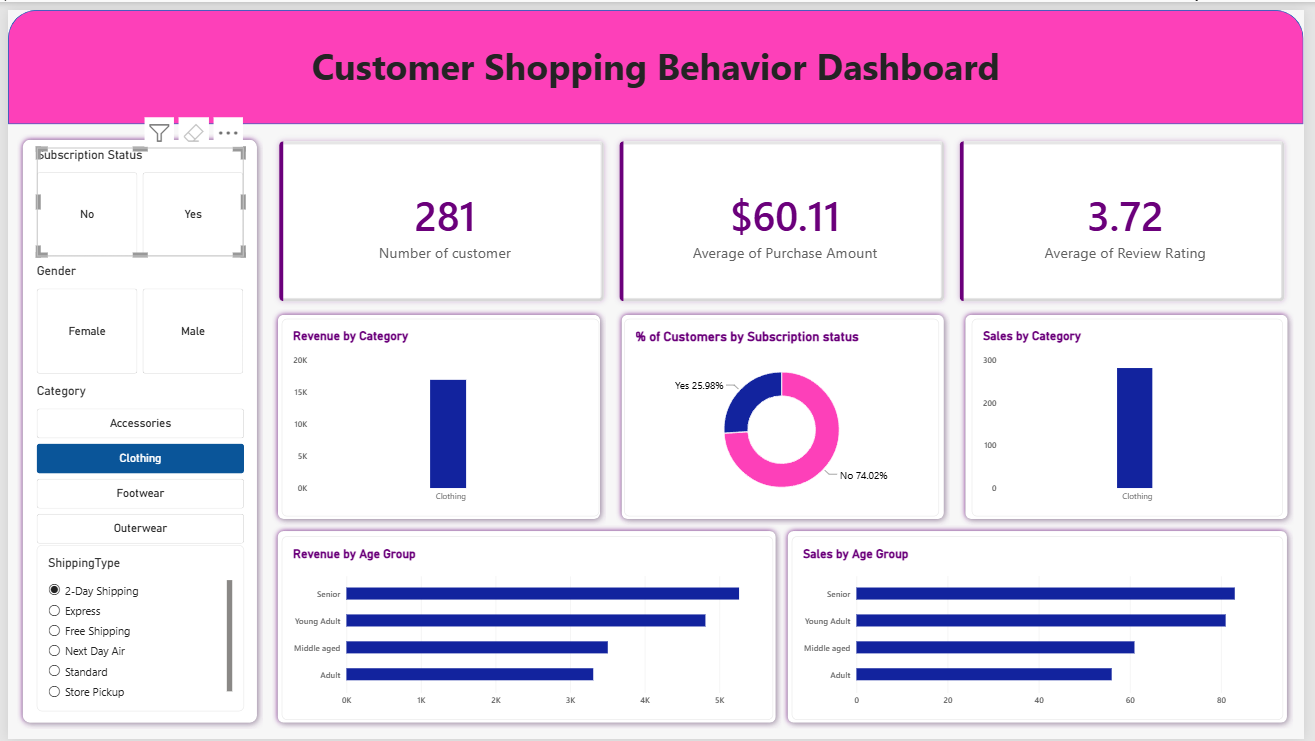

Layout of this report page (visuals, bound fields, positions):
{"tool":"powerbi","page":{"name":"Page 1","canvas":[1920,1080],"ordinal":0},"visuals":[{"type":"cardVisual","fields":{"Data":["public customer.Number of customer","public customer.Average of Purchase Amount","public customer.Average of Review Rating"]},"box":[390.7,183.3,1513.6,259.1],"z":0},{"type":"shape","box":[0,0,1919.2,169.2],"z":1000},{"type":"textbox","box":[0,46.2,1919.2,123.1],"z":2000},{"type":"shape","box":[1409.3,442.6,495.5,320.5],"z":3000},{"type":"clusteredColumnChart","title":"Sales by Category","fields":{"Category":["public customer.category"],"Y":["CountNonNull(public customer.customer_id)"]},"box":[1427.8,457.4,461.1,292.6],"z":4000},{"type":"shape","box":[900,442.6,495.5,320.5],"z":5000},{"type":"shape","box":[390.7,442.6,495.5,320.5],"z":6000},{"type":"donutChart","title":"% of Customers by Subscription status","fields":{"Category":["public customer.subscription_status"],"Y":["CountNonNull(public customer.customer_id)"]},"box":[405.6,457.4,466.7,292.6],"z":7000},{"type":"clusteredColumnChart","title":"Revenue by Category","fields":{"Category":["public customer.category"],"Y":["Sum(public customer.purchase_amount)"]},"box":[913,457.4,470.4,292.6],"z":8000},{"type":"shape","box":[13,183.3,364.8,881.5],"z":9000},{"type":"advancedSlicerVisual","fields":{"Values":["public customer.subscription_status"]},"box":[42.6,203.7,307.4,161.1],"z":10000},{"type":"advancedSlicerVisual","fields":{"Values":["public customer.gender"]},"box":[42.6,375.9,307.4,163],"z":11000},{"type":"advancedSlicerVisual","fields":{"Values":["public customer.category"]},"box":[42.6,553.7,307.4,238.9],"z":11001},{"type":"listSlicer","fields":{"Values":["public customer.shipping_type"]},"box":[42.6,792.6,307.4,246.3],"z":11002},{"type":"shape","box":[390.7,763,755.6,301.9],"z":11004},{"type":"clusteredBarChart","title":"Revenue by Age Group","fields":{"Category":["public customer.age_group"],"Y":["Sum(public customer.purchase_amount)"]},"box":[405.6,779.6,727.8,272.2],"z":11005},{"type":"shape","box":[1146.3,763,757.4,301.9],"z":11006},{"type":"clusteredBarChart","title":"Sales by Age Group","fields":{"Category":["public customer.age_group"],"Y":["CountNonNull(public customer.customer_id)"]},"box":[1161.1,779.6,727.8,272.2],"z":11007}]}

Visuals, with their boxes in screenshot pixels (x1, y1, x2, y2):
cardVisual - public customer.Number of customer x public customer.Average of Purchase Amount: (x1=271, y1=131, x2=1293, y2=306)
shape: (x1=7, y1=7, x2=1303, y2=121)
textbox: (x1=7, y1=38, x2=1303, y2=121)
shape: (x1=959, y1=306, x2=1293, y2=522)
"Sales by Category" clusteredColumnChart: (x1=971, y1=316, x2=1283, y2=513)
shape: (x1=615, y1=306, x2=949, y2=522)
shape: (x1=271, y1=306, x2=605, y2=522)
"% of Customers by Subscription status" donutChart: (x1=281, y1=316, x2=596, y2=513)
"Revenue by Category" clusteredColumnChart: (x1=624, y1=316, x2=941, y2=513)
shape: (x1=16, y1=131, x2=262, y2=726)
advancedSlicerVisual - public customer.subscription_status: (x1=36, y1=144, x2=243, y2=253)
advancedSlicerVisual - public customer.gender: (x1=36, y1=261, x2=243, y2=371)
advancedSlicerVisual - public customer.category: (x1=36, y1=381, x2=243, y2=542)
listSlicer - public customer.shipping_type: (x1=36, y1=542, x2=243, y2=709)
shape: (x1=271, y1=522, x2=781, y2=726)
"Revenue by Age Group" clusteredBarChart: (x1=281, y1=533, x2=772, y2=717)
shape: (x1=781, y1=522, x2=1293, y2=726)
"Sales by Age Group" clusteredBarChart: (x1=791, y1=533, x2=1283, y2=717)
